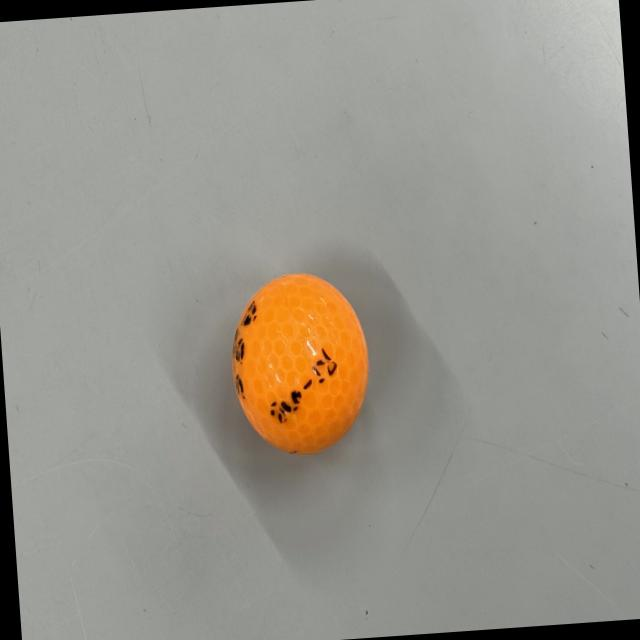ball: (222, 264, 382, 468)
